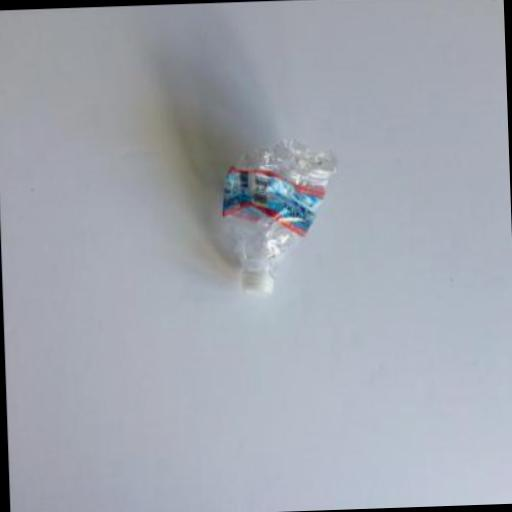plastic: (219, 134, 340, 298), (220, 160, 326, 238), (238, 262, 276, 296)
